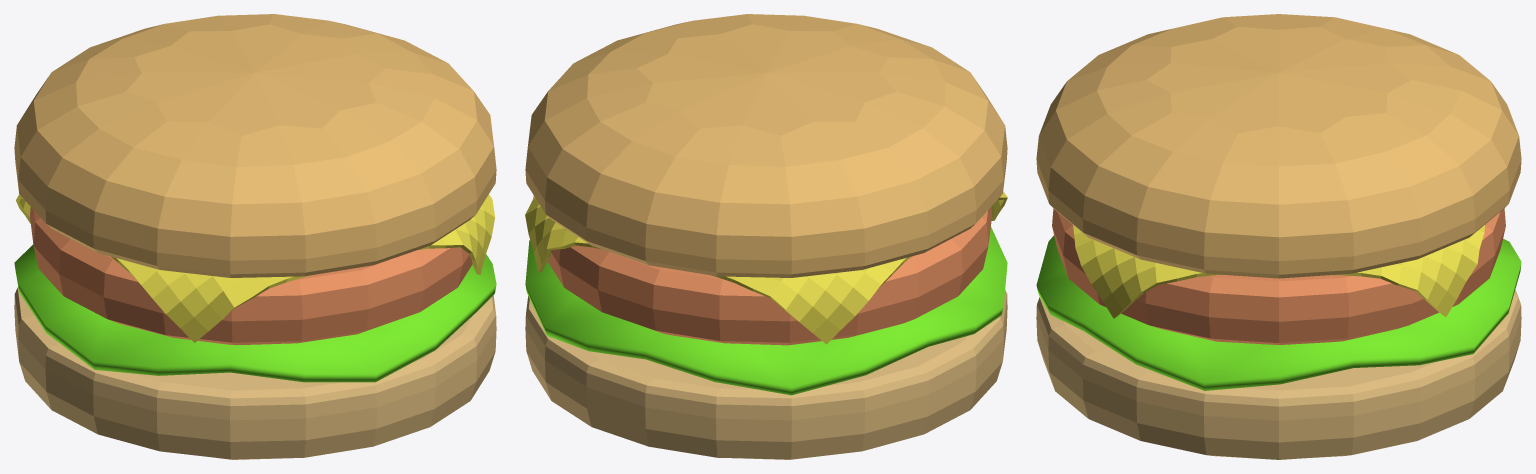
Rendered from Burger - Copy.fbx.
3 renders of one model, left to right at view 1: azimuth 30°, elevation 25°; view 2: azimuth 150°, elevation 25°; view 3: azimuth 270°, elevation 25°, orthographic.
Parts seen in each view (by area): view 1: Circle.003, Circle, Circle.002, Circle.001, Plane; view 2: Circle.003, Circle, Circle.002, Circle.001, Plane; view 3: Circle.003, Circle, Circle.001, Circle.002, Plane.
Boxes of the visible parts, x1,y1,x2,y2 form: Circle.003: (14,14,496,277); Circle: (14,287,496,459); Circle.002: (30,207,472,345); Circle.001: (14,244,496,382); Plane: (16,194,495,342); Circle.003: (525,14,1007,277); Circle: (525,290,1007,459); Circle.002: (548,207,991,345); Circle.001: (525,227,1007,395); Plane: (525,191,1007,344); Circle.003: (1036,14,1521,278); Circle: (1036,290,1521,459); Circle.001: (1036,235,1521,390); Circle.002: (1052,208,1505,344); Plane: (1073,225,1484,318).
Size of the model in its own units: 18.72 by 12.67 by 18.73.
